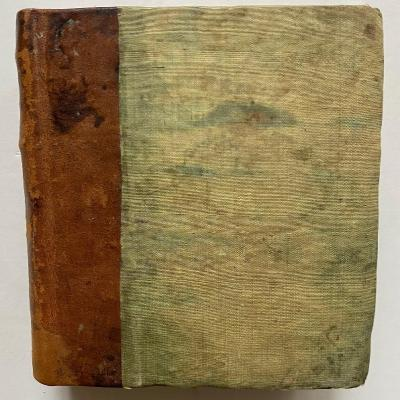rare_books: (15, 5, 386, 393)
